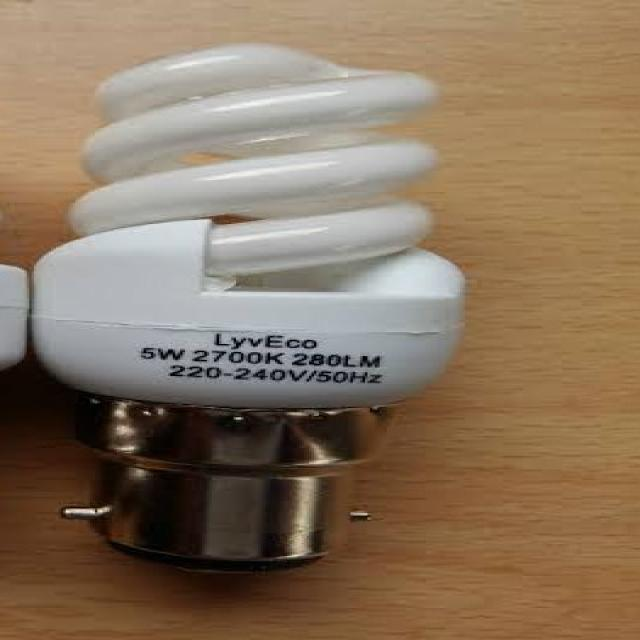bulb: (3, 0, 476, 599)
